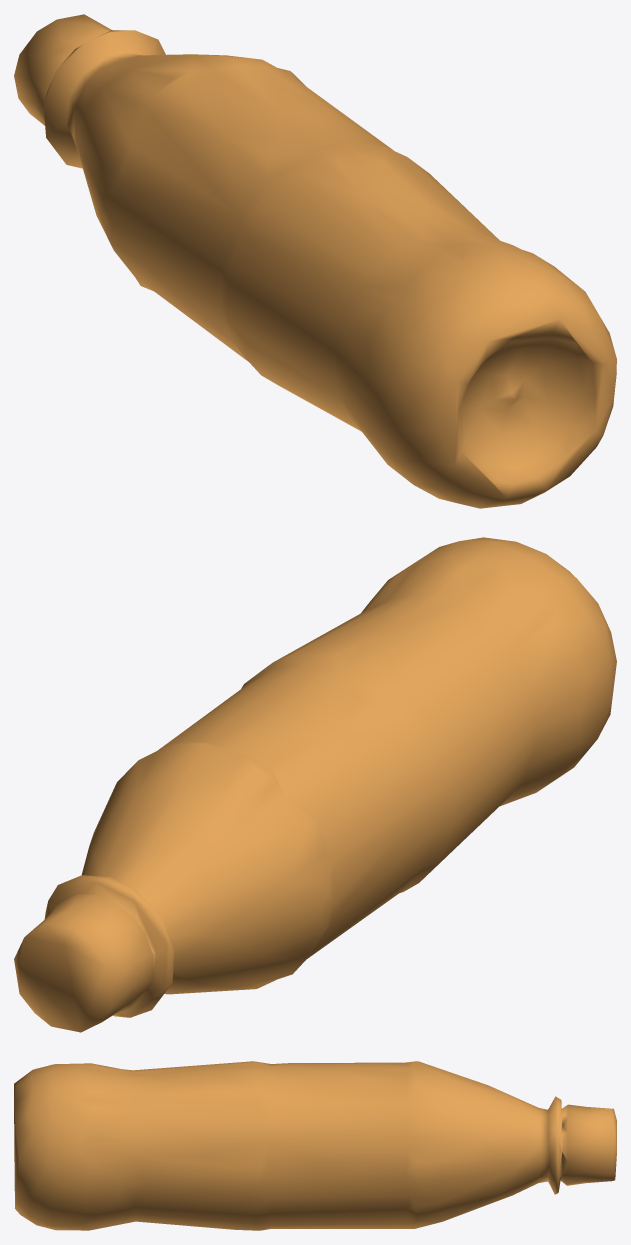
The model's file is bottle5_6.dae.
The picture shows the model from 3 angles, top to bottom: view 1: azimuth 30°, elevation 25°; view 2: azimuth 150°, elevation 25°; view 3: azimuth 270°, elevation 25°; orthographic projection. The views are drawn at different scales.
Parts seen in each view (by area): view 1: CokePlasticSmallGrasp_800_tex_019; view 2: CokePlasticSmallGrasp_800_tex_019; view 3: CokePlasticSmallGrasp_800_tex_019.
Boxes of the visible parts, bbox=[...] form: CokePlasticSmallGrasp_800_tex_019: bbox=[14, 14, 616, 508]; CokePlasticSmallGrasp_800_tex_019: bbox=[14, 537, 616, 1032]; CokePlasticSmallGrasp_800_tex_019: bbox=[14, 1061, 616, 1230].
Size of the model in its own units: 0.045 by 0.1586 by 0.045.
